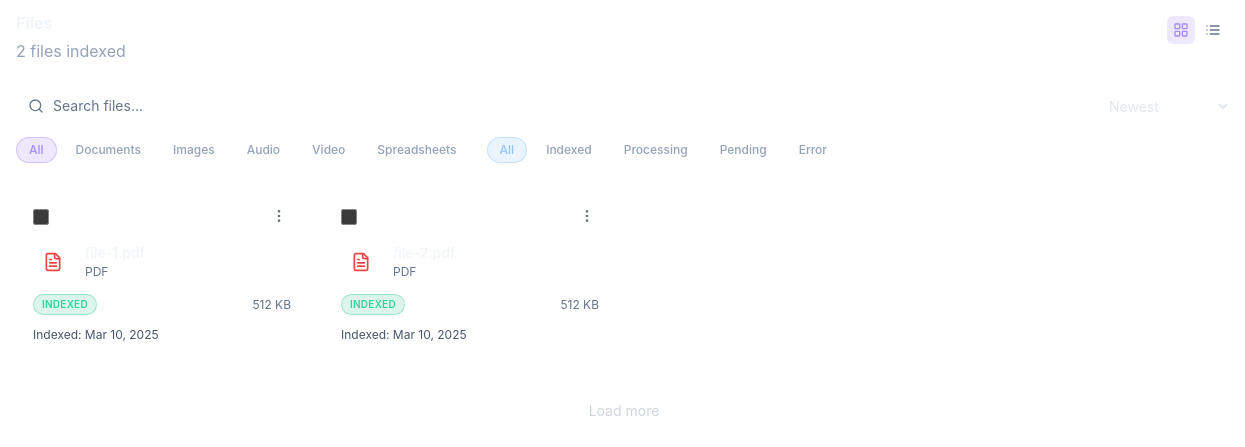
Test case: FilesBrowserPage › shows Load more button when nextCursor is present and loads next page
Expected: the number of elements with test id "file-card" is 2, [16,187,308,360]; [324,187,616,360]
Click the button with test id "load-more-btn" at {"x": 624, "y": 411}, box [568,392,680,430]
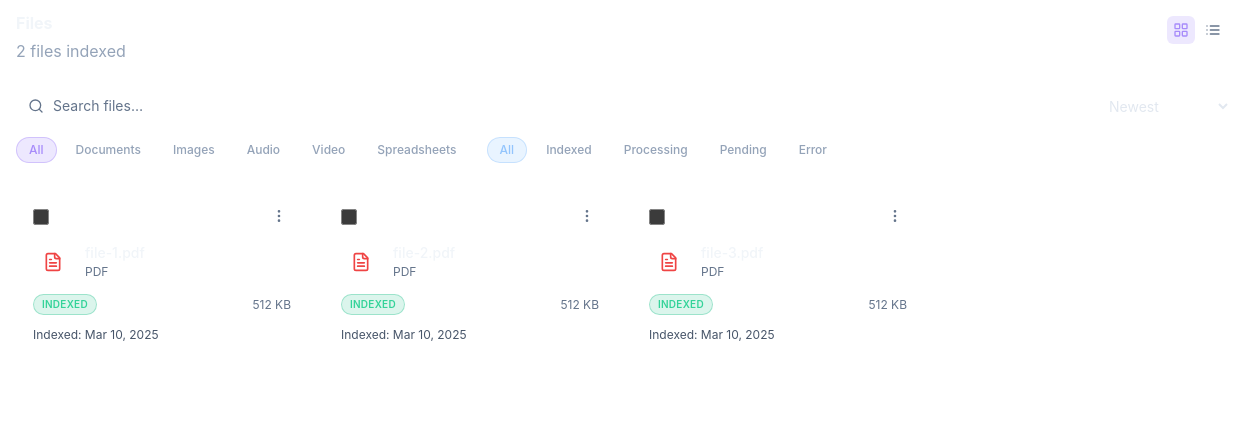
Result: the number of elements with test id "file-card" is 3 at [16,187,308,360]; [324,187,616,360]; [632,187,924,360]
Result: the button with test id "load-more-btn" is gone
